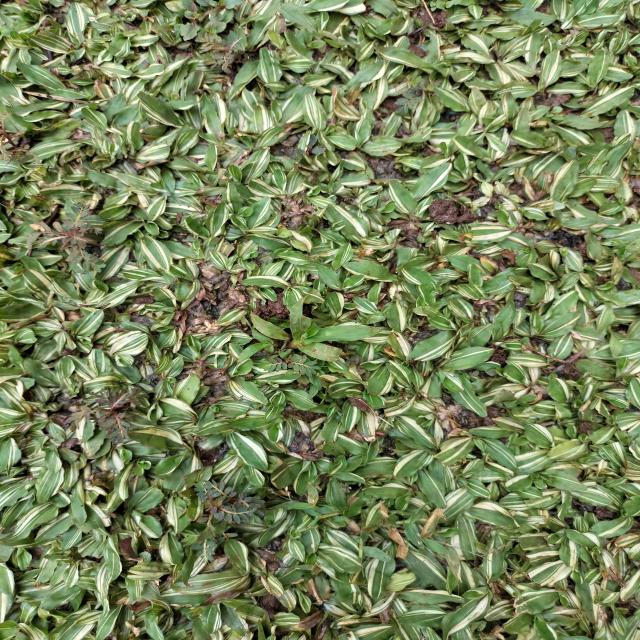buah daun: (173, 473, 271, 565), (33, 200, 110, 273), (61, 385, 147, 445), (193, 30, 254, 72), (255, 348, 324, 381), (395, 74, 445, 117)
rambat atas: (284, 478, 345, 526), (394, 500, 434, 554)
rambat bawah: (249, 291, 385, 366)
ungu tunggang: (176, 0, 246, 42)
